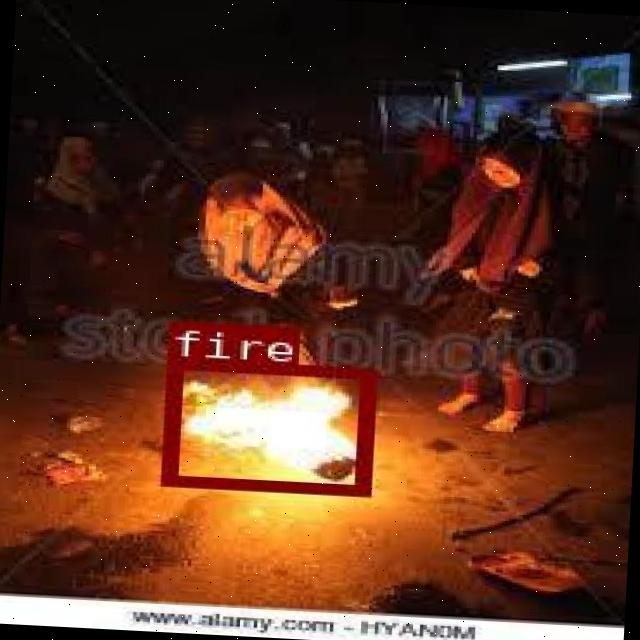fire: (160, 357, 372, 494)
